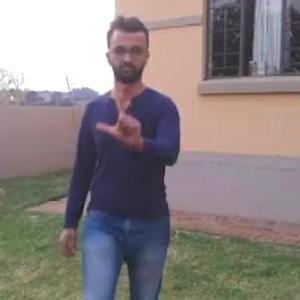land_hand: (92, 93, 148, 148)
